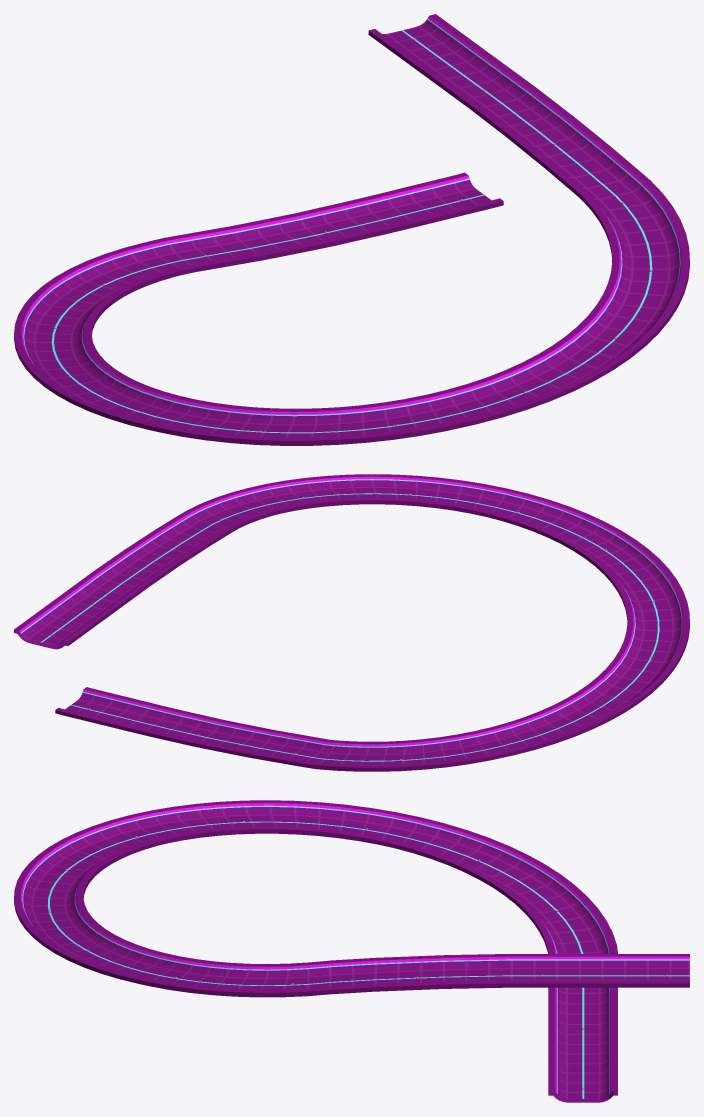
Rendered from blue_block90_S_R_T2.fbx.
The picture shows the model from 3 angles, top to bottom: view 1: azimuth 30°, elevation 25°; view 2: azimuth 150°, elevation 25°; view 3: azimuth 270°, elevation 25°; orthographic projection. The views are drawn at different scales.
Visible parts, largest first — view 1: blue_block90_S_R_T2; view 2: blue_block90_S_R_T2; view 3: blue_block90_S_R_T2.
Boxes of the visible parts, bbox=[...] form: blue_block90_S_R_T2: bbox=[14, 14, 689, 445]; blue_block90_S_R_T2: bbox=[14, 474, 689, 771]; blue_block90_S_R_T2: bbox=[14, 800, 689, 1102].
Bounding box in the file's own units: 9822 × 2233 × 10971.
2 materials, 1 textured.
